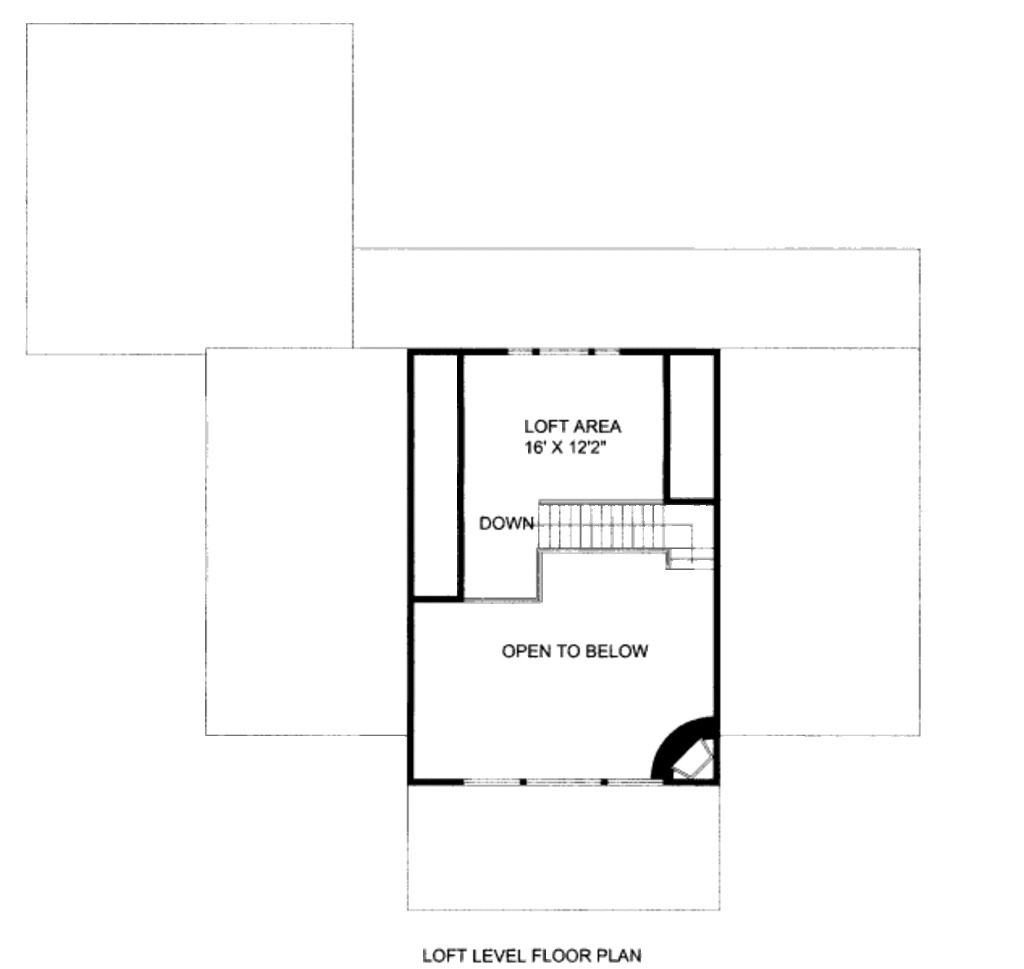stairs: (530, 491, 724, 571)
window: (464, 765, 663, 797), (507, 346, 625, 356)
